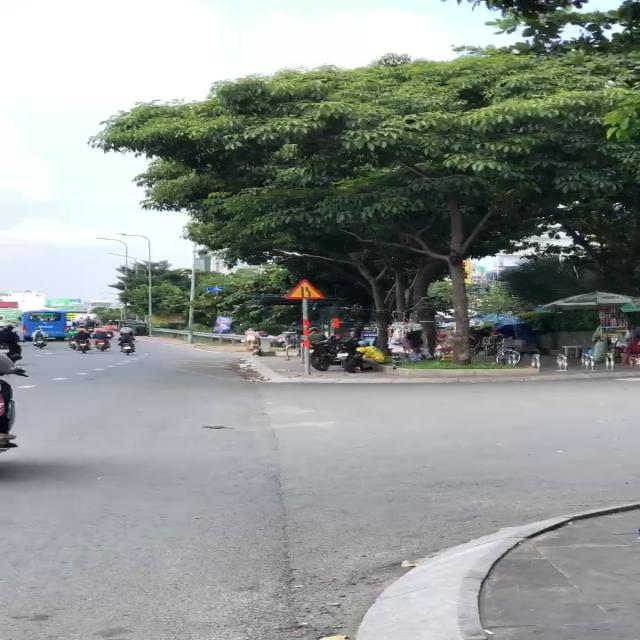Bien bao duong bi thu hep: (280, 278, 333, 303)
